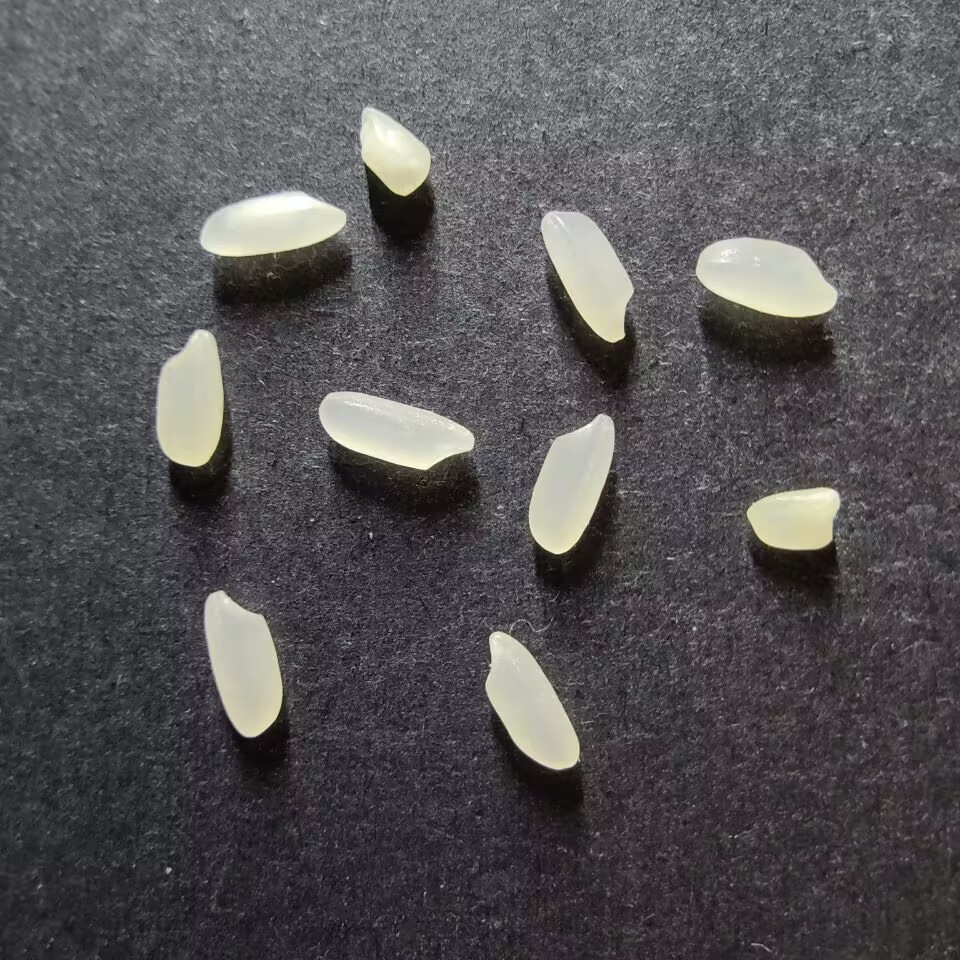broken: (358, 107, 430, 196), (745, 486, 841, 550)
rice: (483, 630, 580, 770), (317, 391, 474, 471), (540, 210, 634, 342), (527, 413, 615, 554), (203, 589, 283, 738), (694, 236, 838, 317), (199, 190, 347, 256), (155, 329, 223, 467)
